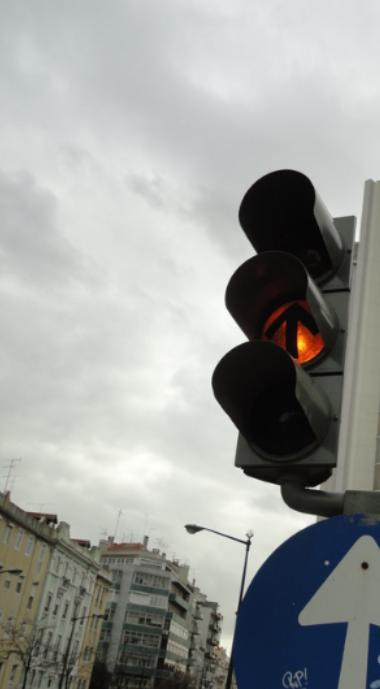yellow_light: (213, 168, 356, 485)
